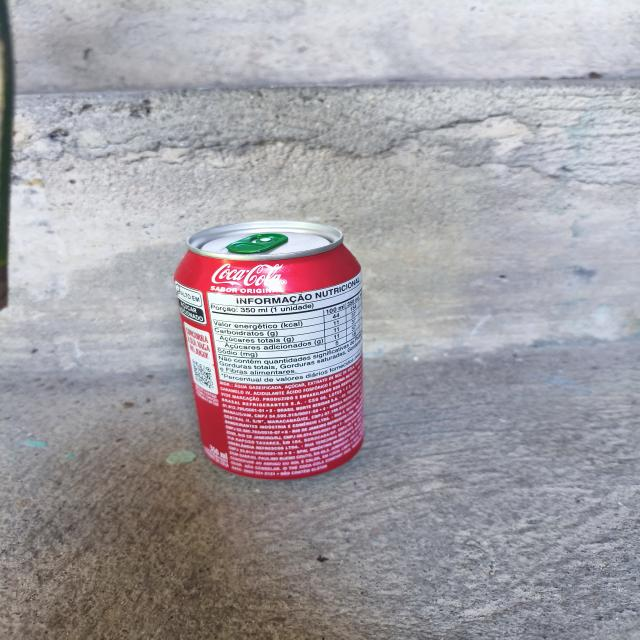Coca Cola: (158, 214, 420, 506)
